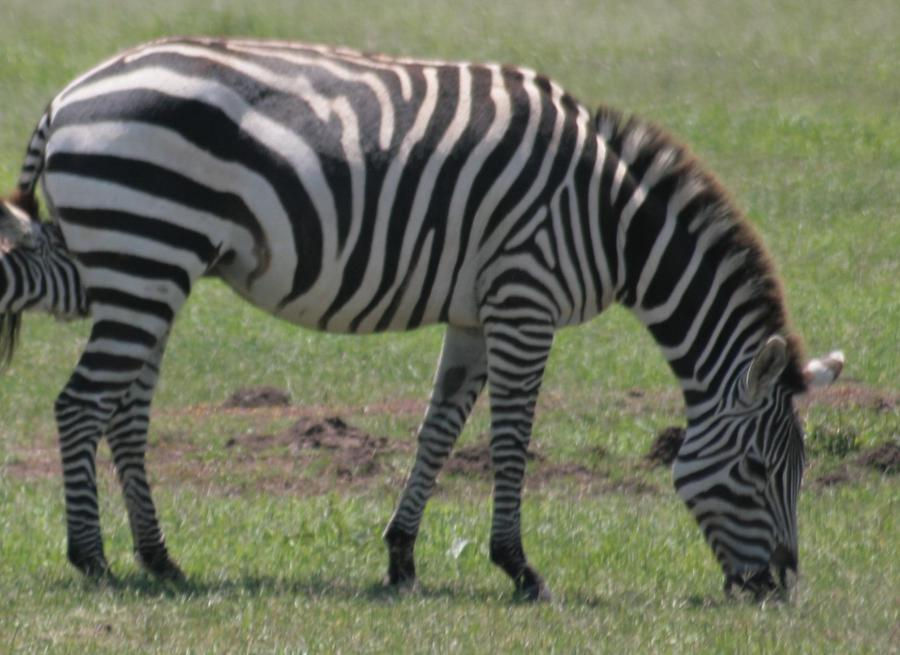zebra_plains: (41, 32, 610, 324)
